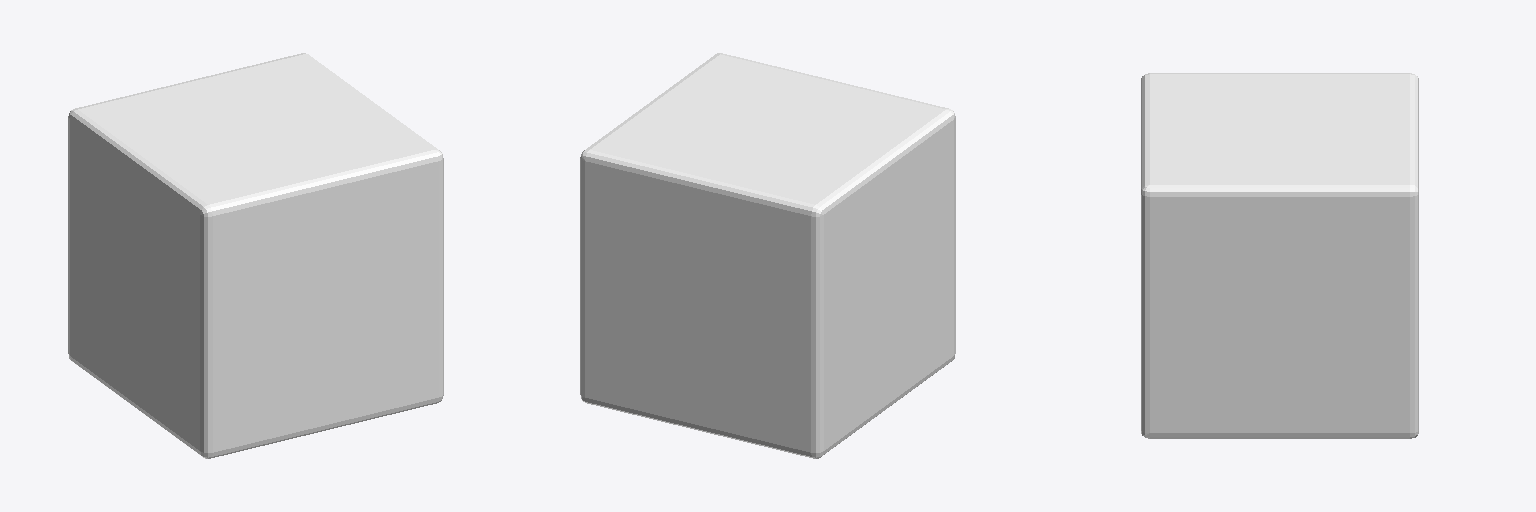
Rendered from cubedie.obj.
3 views of the same model, side by side, from view 1: azimuth 30°, elevation 25°; view 2: azimuth 150°, elevation 25°; view 3: azimuth 270°, elevation 25° (orthographic).
Parts seen in each view (by area): view 1: Box001 Mesh; view 2: Box001 Mesh; view 3: Box001 Mesh.
Boxes of the visible parts, x1,y1,x2,y2 form: Box001 Mesh: [68, 53, 443, 458]; Box001 Mesh: [580, 53, 955, 458]; Box001 Mesh: [1141, 73, 1418, 438].
Bounding box in the file's own units: 20 × 20 × 20.